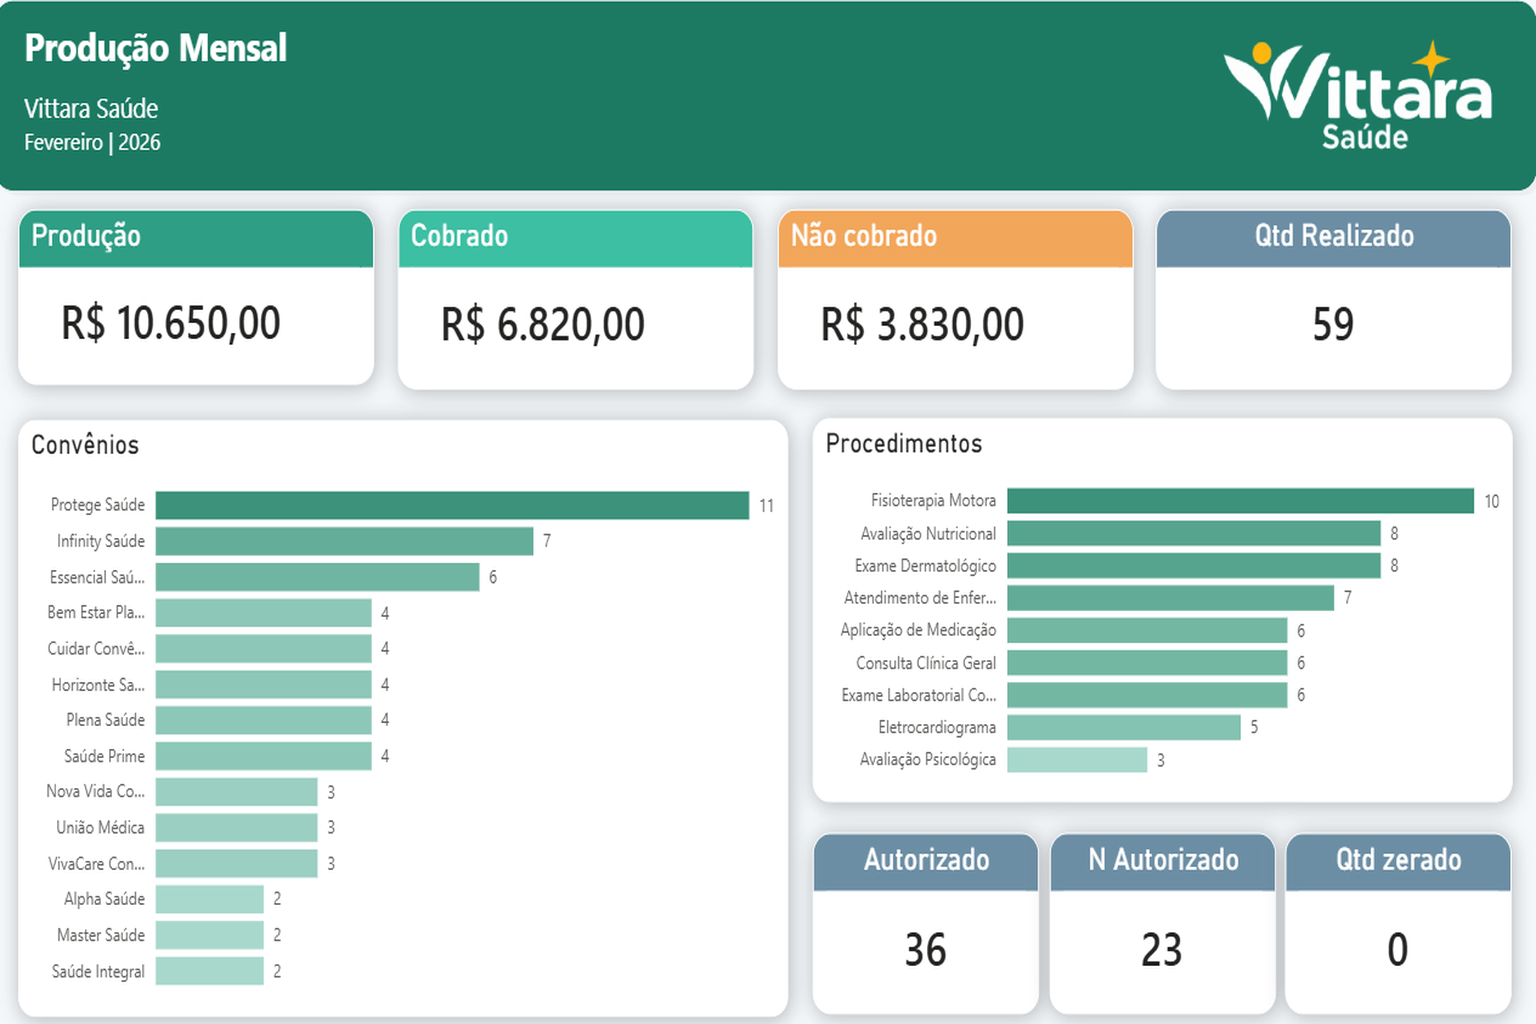

Layout of this report page (visuals, bound fields, positions):
{"tool":"powerbi","page":{"name":"Página 1","canvas":[1280,720],"ordinal":0},"visuals":[{"type":"barChart","title":"Convênios","fields":{"Category":["ProdFev.Convênio"],"Y":["CountNonNull(ProdFev.Convênio)"]},"box":[25,293.3,633.3,410],"z":0},{"type":"clusteredBarChart","title":" Procedimentos ","fields":{"Category":["Cadastro de Autorizações.Procedimento"],"Y":["CountNonNull(Cadastro de Autorizações.Procedimento)"]},"box":[678.6,292.9,576.2,264.3],"z":1000},{"type":"cardVisual","title":"Produção","fields":{"Data":["Sum(ProdFev.Valor)"]},"box":[25.6,149.3,293,120.9],"z":2000},{"type":"cardVisual","title":"Não cobrado","fields":{"Data":["Sum(ProdFev.Valor)"]},"box":[650,149.3,293,123.7],"z":3000},{"type":"cardVisual","title":"Cobrado","fields":{"Data":["Sum(ProdFev.Valor)"]},"box":[337.1,149.3,293,123.7],"z":4000},{"type":"cardVisual","title":"Autorizado","fields":{"Data":["ProdFev.QtadAut"]},"box":[678.4,577.4,186.3,125.2],"z":5000},{"type":"cardVisual","title":"Qtd Realizado","fields":{"Data":["ProdFev.QuantRealizado"]},"box":[961.4,149.3,293,123.7],"z":6000},{"type":"cardVisual","title":"N Autorizado","fields":{"Data":["ProdFev.QtadAut"]},"box":[873.2,577.4,186.3,125.2],"z":7000},{"type":"cardVisual","title":"Qtd zerado","fields":{"Data":["Sum(ProdFev.Valor)"]},"box":[1068.1,577.4,186.3,125.2],"z":8000},{"type":"shape","box":[0,0,1280.3,141.8],"z":9000},{"type":"textbox","box":[25.6,14.2,278.8,72.5],"z":10000},{"type":"textbox","box":[25.6,61.2,202,66.8],"z":11000},{"type":"image","box":[1016.2,14.7,225,111.3],"z":12000}]}

Visuals, with their boxes on the page's 1280x720 design canvas (x1, y1, x2, y2). These are canvas units, not pixel positions in the 1536x1024 screenshot, which may show the page scaled, cropped or inside an application window:
"Convênios" barChart: locate(25, 293, 658, 703)
" Procedimentos " clusteredBarChart: locate(679, 293, 1255, 557)
"Produção" cardVisual: locate(26, 149, 319, 270)
"Não cobrado" cardVisual: locate(650, 149, 943, 273)
"Cobrado" cardVisual: locate(337, 149, 630, 273)
"Autorizado" cardVisual: locate(678, 577, 865, 703)
"Qtd Realizado" cardVisual: locate(961, 149, 1254, 273)
"N Autorizado" cardVisual: locate(873, 577, 1060, 703)
"Qtd zerado" cardVisual: locate(1068, 577, 1254, 703)
shape: locate(0, 0, 1280, 142)
textbox: locate(26, 14, 304, 87)
textbox: locate(26, 61, 228, 128)
image: locate(1016, 15, 1241, 126)
